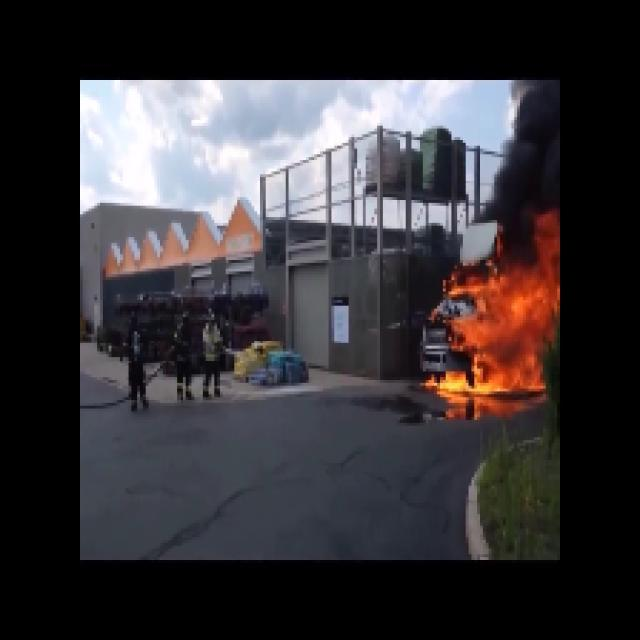Fire: (457, 255, 553, 410)
Smoke: (492, 93, 554, 241)
